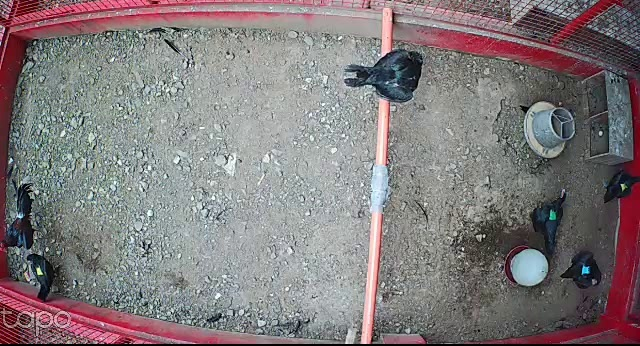Chicken: (341, 42, 425, 104), (530, 187, 570, 263), (23, 253, 63, 304), (601, 166, 640, 209), (562, 250, 602, 289)
Drinker: (503, 243, 551, 289)
Feeder: (521, 99, 579, 160)
Rooster: (0, 182, 46, 266)
Saddle_Color_Blue: (580, 265, 592, 276)
Saddle_Color_Green: (547, 208, 561, 220)
Saddle_Color_Yellow: (36, 265, 44, 276)
Saddle_Color_YellowGreen: (621, 183, 629, 190)
